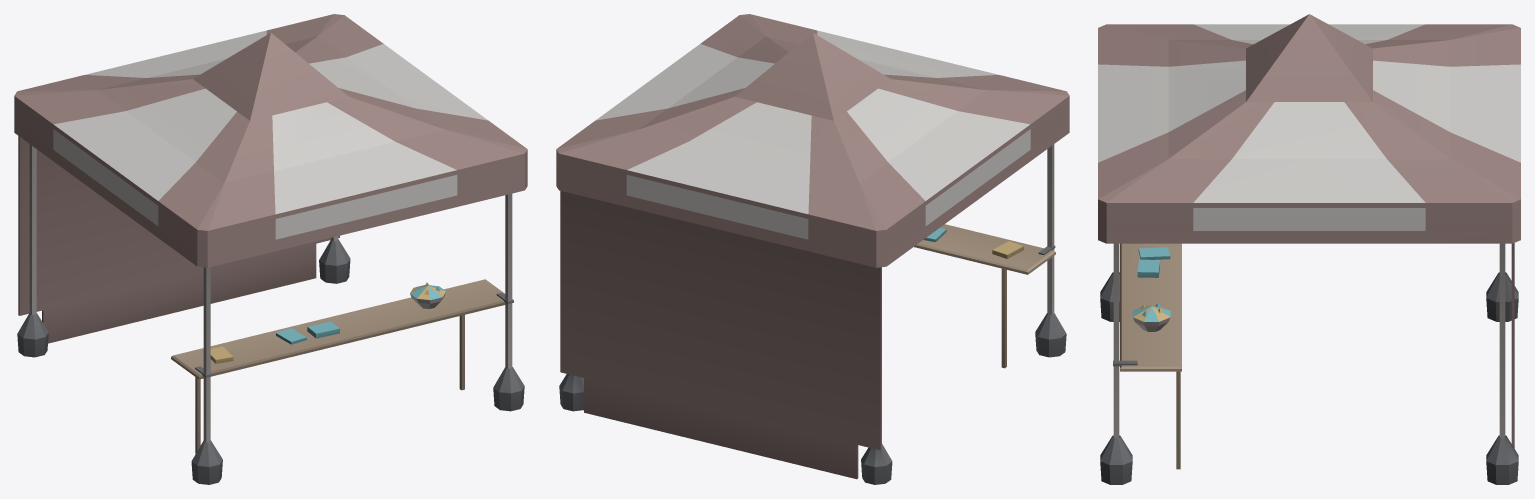
The model's file is stall.glb.
The picture shows the model from 3 angles, left to right: view 1: azimuth 30°, elevation 25°; view 2: azimuth 150°, elevation 25°; view 3: azimuth 270°, elevation 25°; orthographic projection. The views are drawn at different scales.
Visible parts, largest first — view 1: stall.001; view 2: stall.001; view 3: stall.001.
Boxes of the visible parts, <box> form: stall.001: <box>14,14,527,484</box>; stall.001: <box>556,14,1069,484</box>; stall.001: <box>1098,14,1520,484</box>.
Size of the model in its own units: 3 by 3 by 3.
